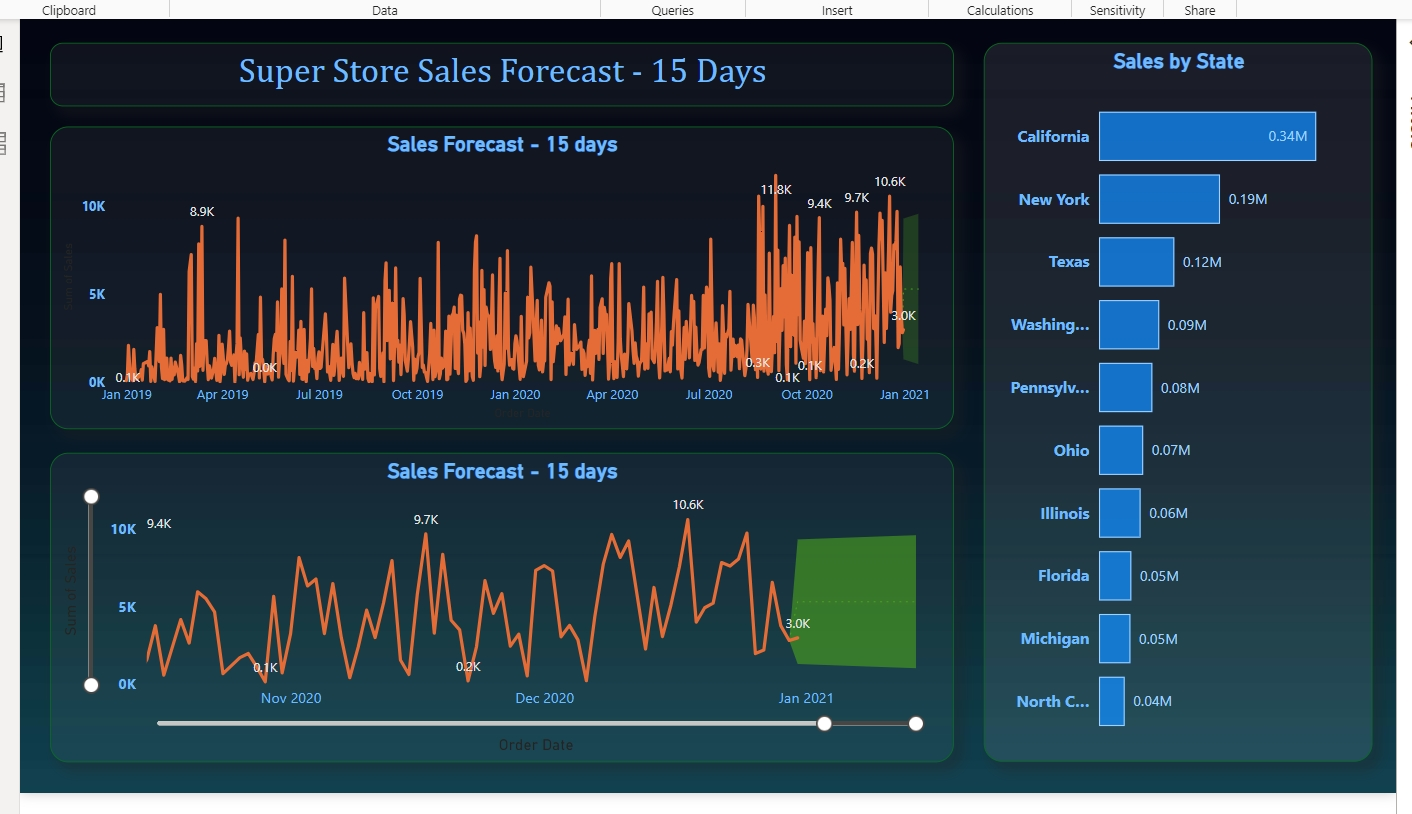

What the dashboard file says about the page in this screenshot:
{"tool":"powerbi","page":{"name":"Page 2","canvas":[1280,720],"ordinal":1},"visuals":[{"type":"lineChart","title":"Sales Forecast - 15 days","fields":{"Y":["Sum(Sheet1.Sales)"],"Category":["Sheet1.Order Date"]},"box":[27.9,100.5,840.6,281.3],"z":0},{"type":"lineChart","title":"Sales Forecast - 15 days","fields":{"Y":["Sum(Sheet1.Sales)"],"Category":["Sheet1.Order Date"]},"box":[27.9,403,840.6,288],"z":1000},{"type":"clusteredBarChart","title":"Sales by State","fields":{"Y":["Sum(Sheet1.Sales)"],"Category":["Sheet1.State"]},"box":[896.4,22.3,361.7,668.7],"z":2000},{"type":"textbox","box":[27.9,22.1,840.7,59.3],"z":3000}]}

Visuals, with their boxes on the page's 1280x720 design canvas (x1, y1, x2, y2). These are canvas units, not pixel positions in the 1412x814 screenshot, which may show the page scaled, cropped or inside an application window:
"Sales Forecast - 15 days" lineChart: box=[28, 100, 868, 382]
"Sales Forecast - 15 days" lineChart: box=[28, 403, 868, 691]
"Sales by State" clusteredBarChart: box=[896, 22, 1258, 691]
textbox: box=[28, 22, 869, 81]
